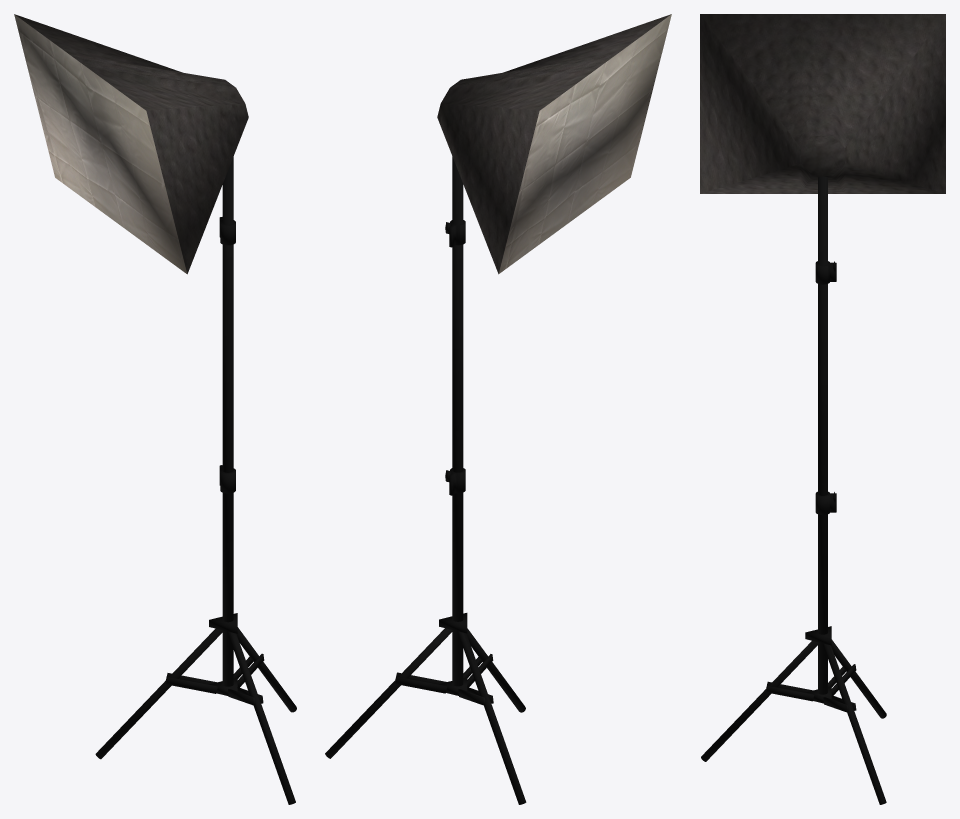
File: Softbox.glb
3 views of the same model, side by side, from view 1: azimuth 30°, elevation 25°; view 2: azimuth 150°, elevation 25°; view 3: azimuth 270°, elevation 25° (orthographic). The views are drawn at different scales.
Parts seen in each view (by area): view 1: Cylinder.004; view 2: Cylinder.004; view 3: Cylinder.004.
Boxes of the visible parts, <box> form: Cylinder.004: <box>14,14,296,804</box>; Cylinder.004: <box>325,14,671,804</box>; Cylinder.004: <box>700,14,945,804</box>.
Bounding box in the file's own units: 1.45 × 4.09 × 1.34.
Materials: 1 (1 with a texture image).
